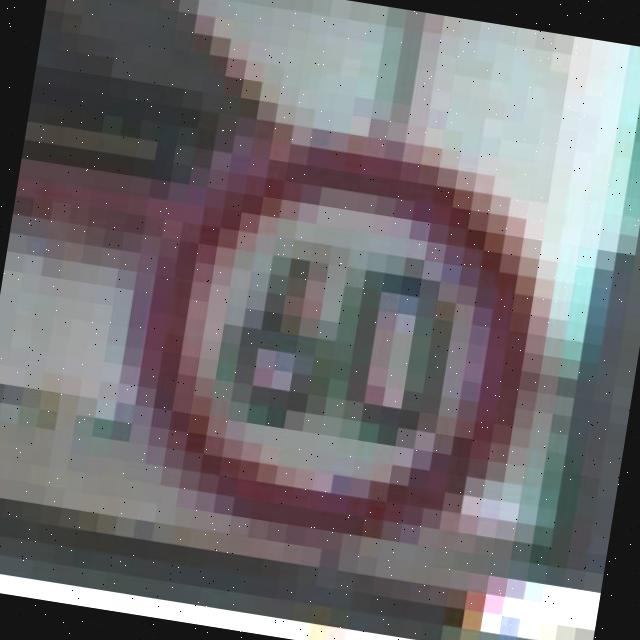Ograniczenie predkosci do 60: (56, 61, 614, 636)
